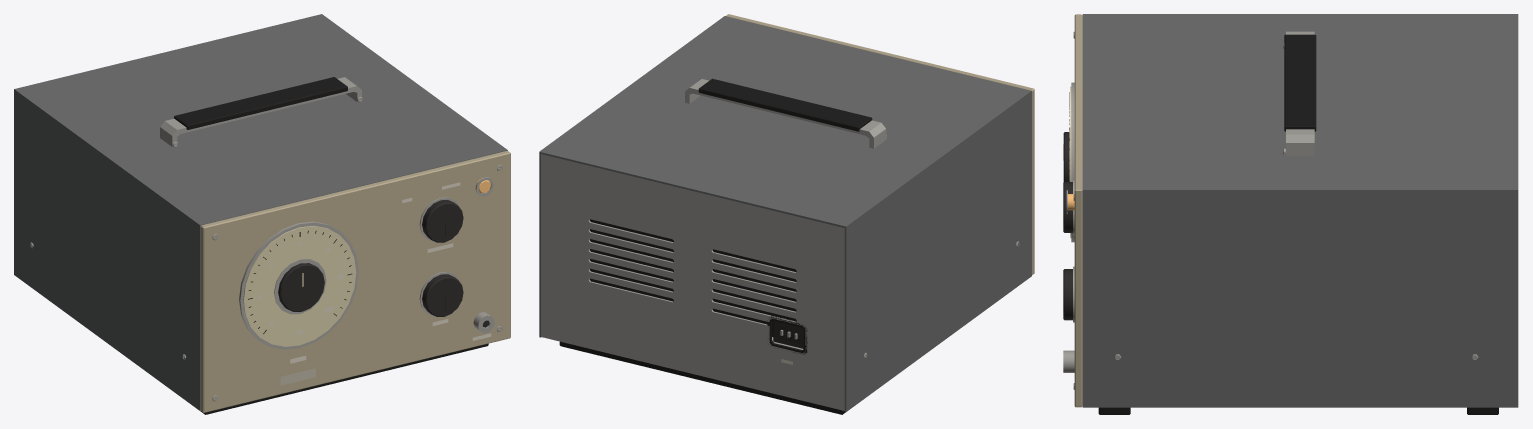
The model's file is signal-generator-80c9e4e3149c.glb.
3 views of the same model, side by side, from view 1: azimuth 30°, elevation 25°; view 2: azimuth 150°, elevation 25°; view 3: azimuth 270°, elevation 25° (orthographic). The views are drawn at different scales.
Visible parts, largest first — view 1: metal, enamel-beige, dial-cream, plastic-dark, brushed, rubber, rubber-foot, decal-ink; view 2: metal, brushed, enamel-black, rubber, enamel-beige, rubber-foot, plastic-dark; view 3: metal, enamel-beige, rubber, brushed, plastic-dark, rubber-foot.
Part boxes in pixels (x1,y1,x2,y2): metal: [14, 14, 507, 410]; enamel-beige: [200, 150, 510, 412]; dial-cream: [243, 226, 356, 346]; plastic-dark: [278, 200, 488, 327]; brushed: [30, 77, 502, 401]; rubber: [174, 77, 347, 129]; rubber-foot: [200, 343, 488, 414]; decal-ink: [258, 182, 491, 363]; metal: [539, 16, 1031, 411]; brushed: [541, 79, 1019, 410]; enamel-black: [590, 219, 803, 344]; rubber: [698, 78, 872, 354]; enamel-beige: [726, 14, 1034, 274]; rubber-foot: [559, 341, 845, 414]; plastic-dark: [773, 321, 803, 348]; metal: [1082, 14, 1518, 407]; enamel-beige: [1074, 14, 1082, 407]; rubber: [1284, 34, 1316, 131]; brushed: [1063, 31, 1478, 389]; plastic-dark: [1063, 132, 1072, 320]; rubber-foot: [1098, 407, 1498, 414].
Bounding box in the file's own units: 0.2624 × 0.175 × 0.2843.
